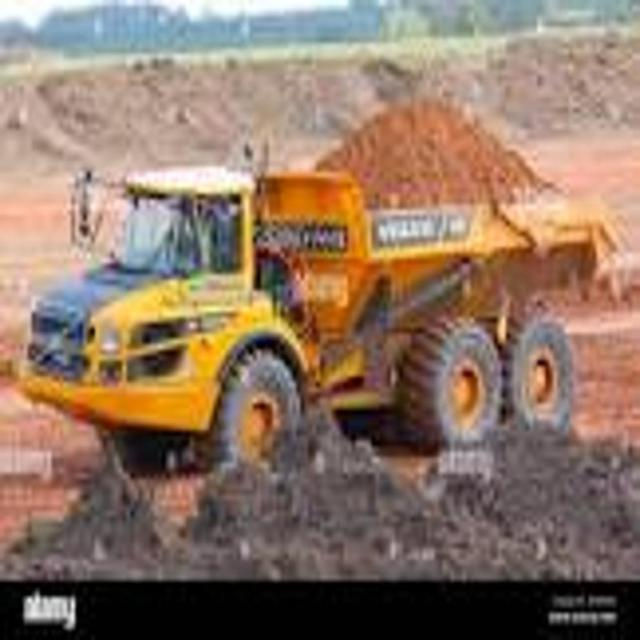dump_truck: (23, 82, 620, 467)
